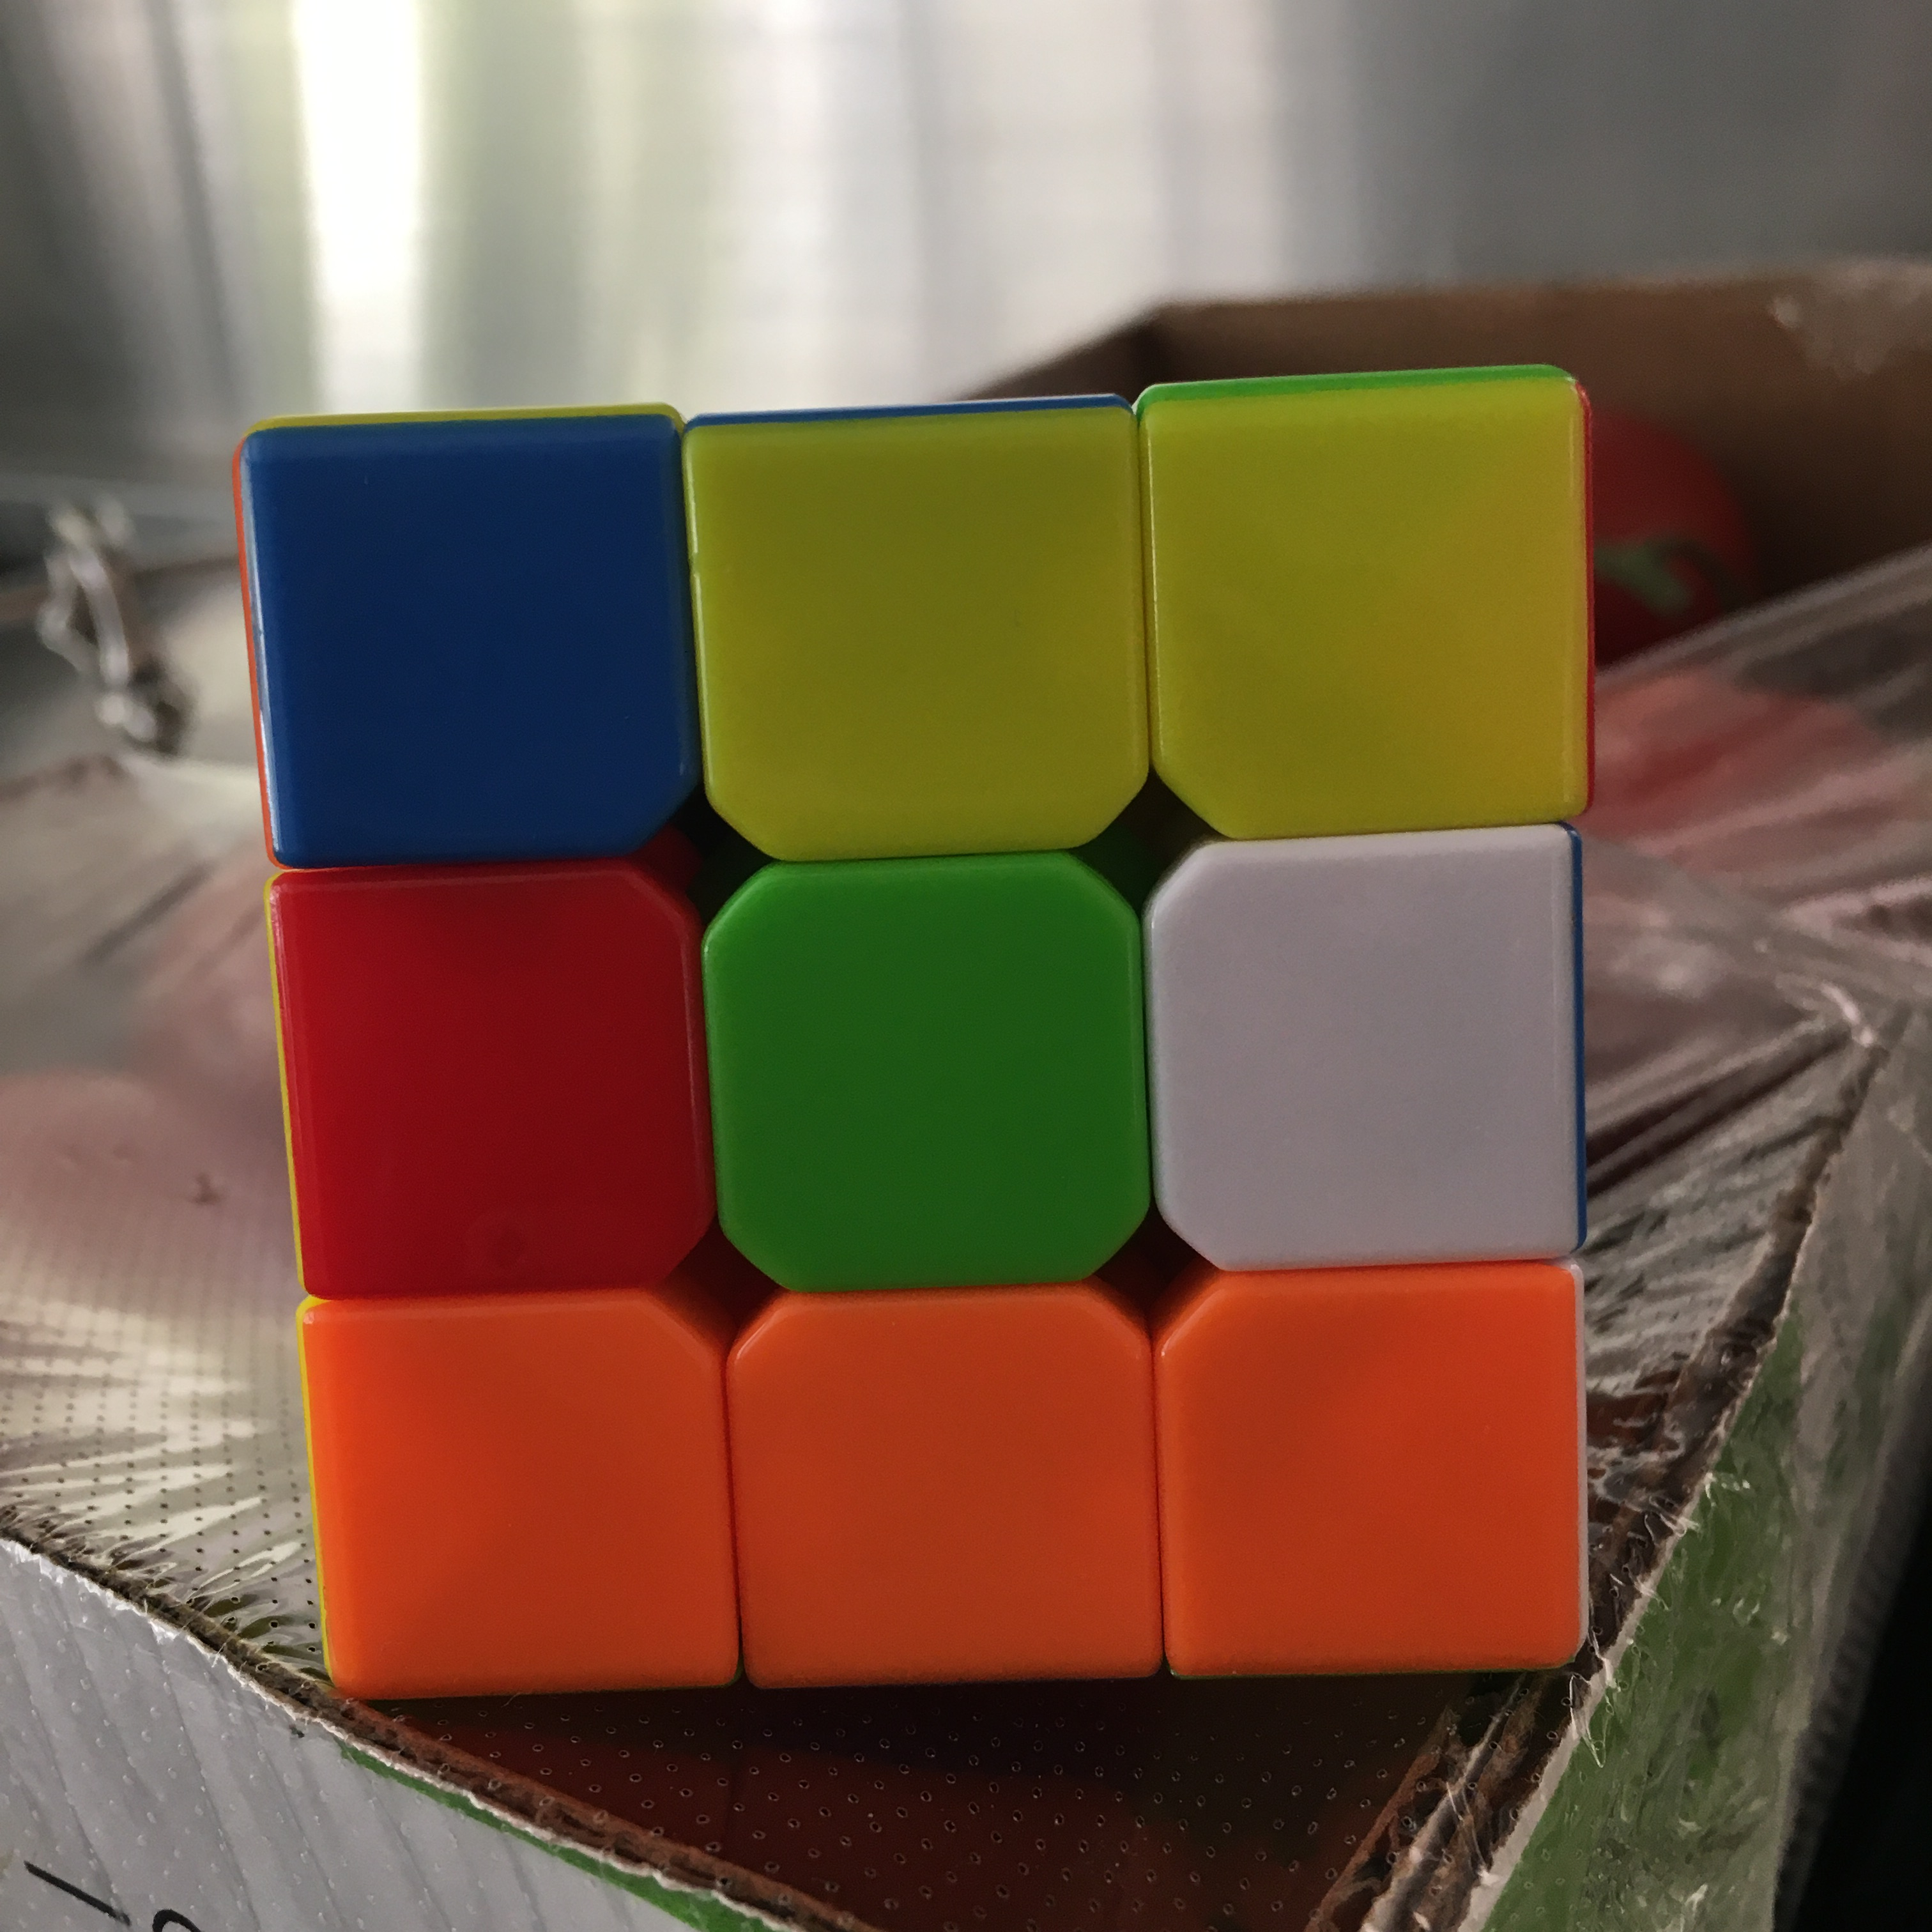face: (231, 380, 1598, 1706)
